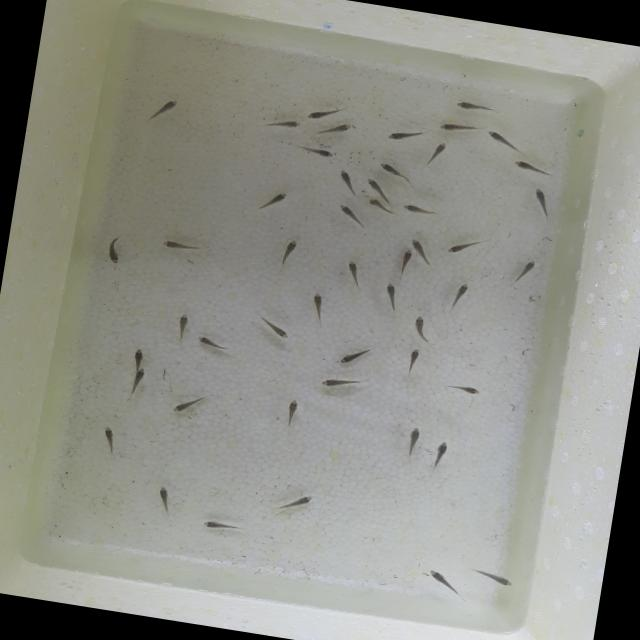fingerling: (422, 566, 471, 604), (446, 233, 486, 260), (472, 566, 516, 590), (304, 291, 334, 326), (408, 312, 438, 346), (451, 98, 502, 118), (275, 237, 304, 270), (364, 175, 398, 203), (281, 492, 317, 516), (485, 129, 524, 151), (171, 393, 205, 418), (255, 314, 291, 337), (436, 118, 482, 136), (338, 345, 372, 369), (444, 380, 484, 400), (161, 238, 208, 255), (200, 518, 244, 536), (513, 256, 541, 284), (194, 332, 233, 352), (306, 105, 344, 125), (430, 438, 452, 472), (374, 158, 408, 180), (259, 188, 290, 212), (318, 375, 356, 394), (342, 258, 366, 288), (105, 232, 126, 266), (152, 96, 181, 120), (381, 282, 403, 313), (449, 280, 472, 309), (402, 202, 439, 220), (510, 158, 548, 175), (153, 486, 176, 514), (336, 203, 366, 224), (284, 397, 302, 432), (529, 186, 551, 214), (403, 424, 422, 456), (296, 145, 336, 160), (404, 346, 423, 376), (396, 249, 414, 280), (409, 234, 432, 258), (320, 120, 354, 136), (385, 128, 419, 144), (428, 138, 450, 162), (267, 116, 304, 130), (174, 312, 190, 344), (366, 198, 394, 215), (334, 167, 353, 188), (100, 425, 117, 448), (130, 347, 146, 370), (132, 366, 146, 392)
